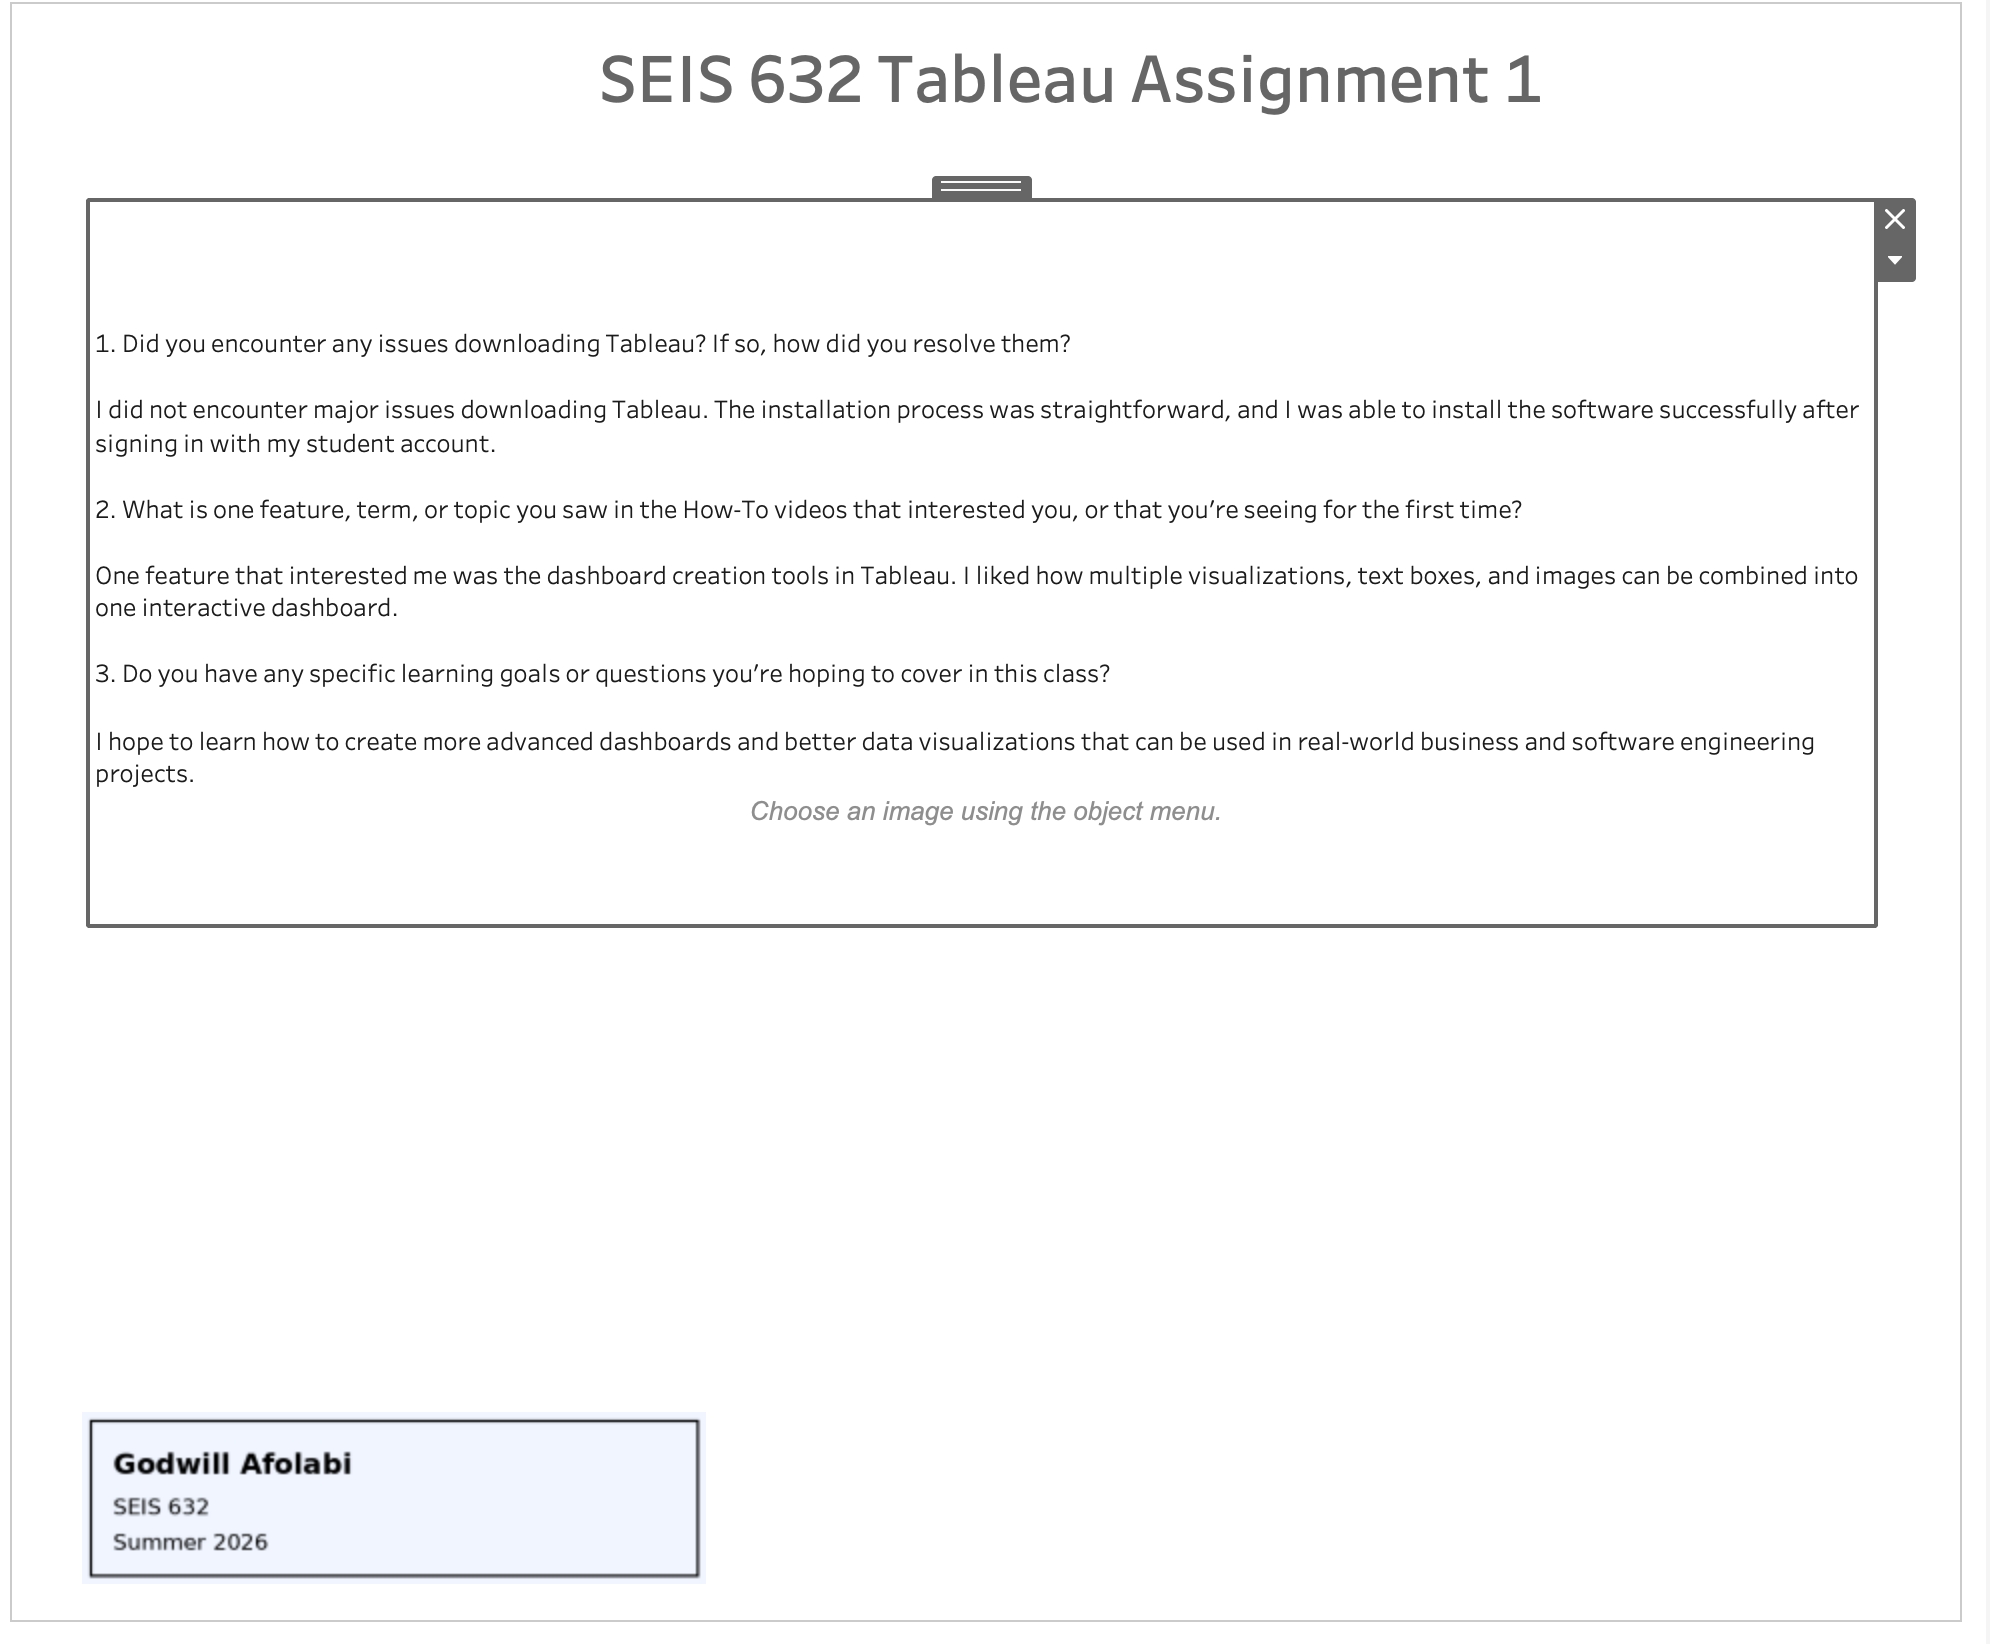

The dashboard page shown, as its layout file describes it:
{"tool":"tableau","page":{"name":"Dashboard 1","canvas":[1000,1000],"units":"permille","ordinal":0},"visuals":[{"type":"image","box":[8,9.3,984,981.4]},{"type":"text","box":[304,16.3,488,83.7]},{"type":"text","box":[52,133.7,892,433.7]},{"type":"image","param":"Image/GodwillAfolabi_Logo.png","box":[48,859.3,320,103.5]}]}

Visuals, with their boxes on the dashboard's canvas, which has no fixed pixel size, in thousandths of its width and height (x1, y1, x2, y2). These are canvas units, not pixel positions in the 1990x1644 screenshot, which may show the page scaled, cropped or inside an application window:
image: rect(8, 9, 992, 991)
text: rect(304, 16, 792, 100)
text: rect(52, 134, 944, 567)
image: rect(48, 859, 368, 963)
